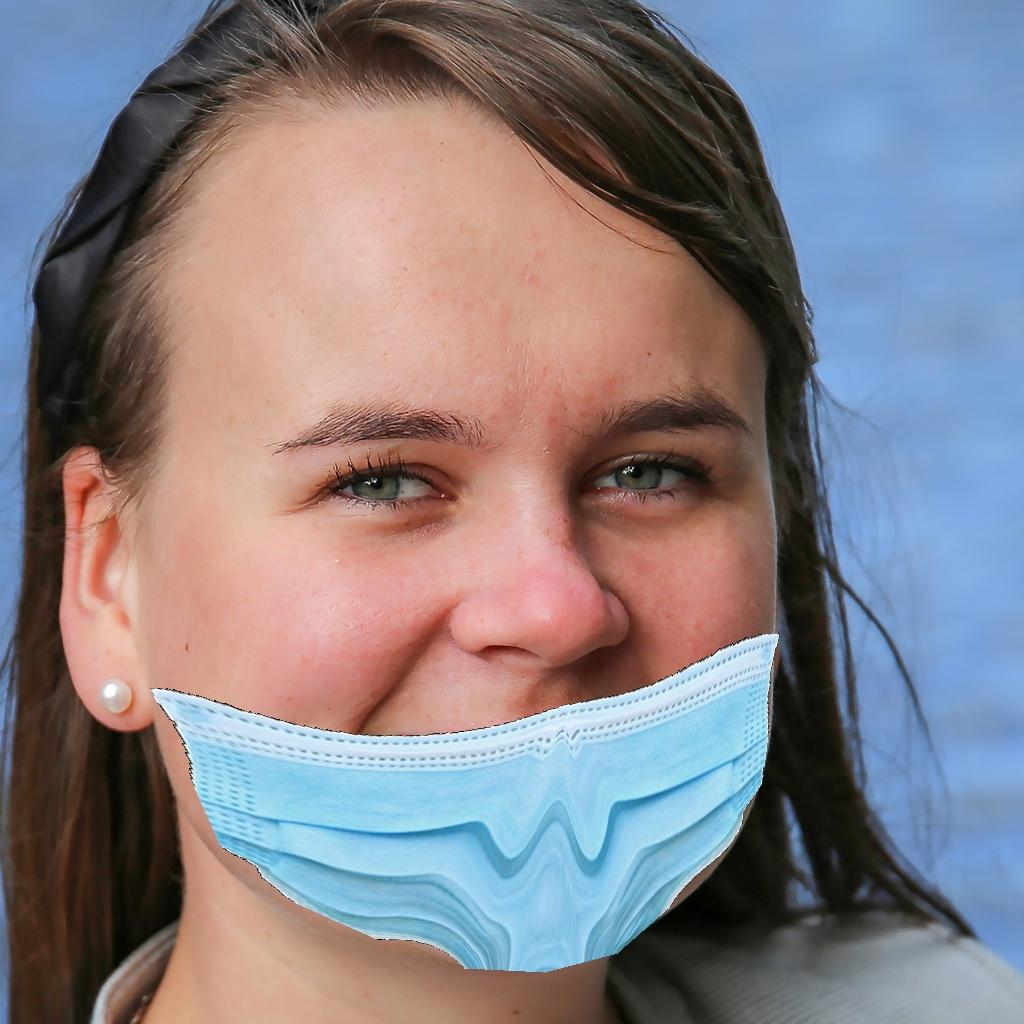Máscara Incorreta: (148, 259, 778, 945)
